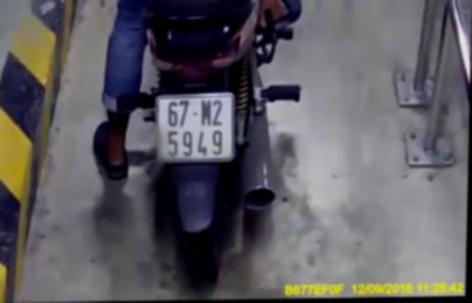License_Plate: (147, 89, 243, 172)
